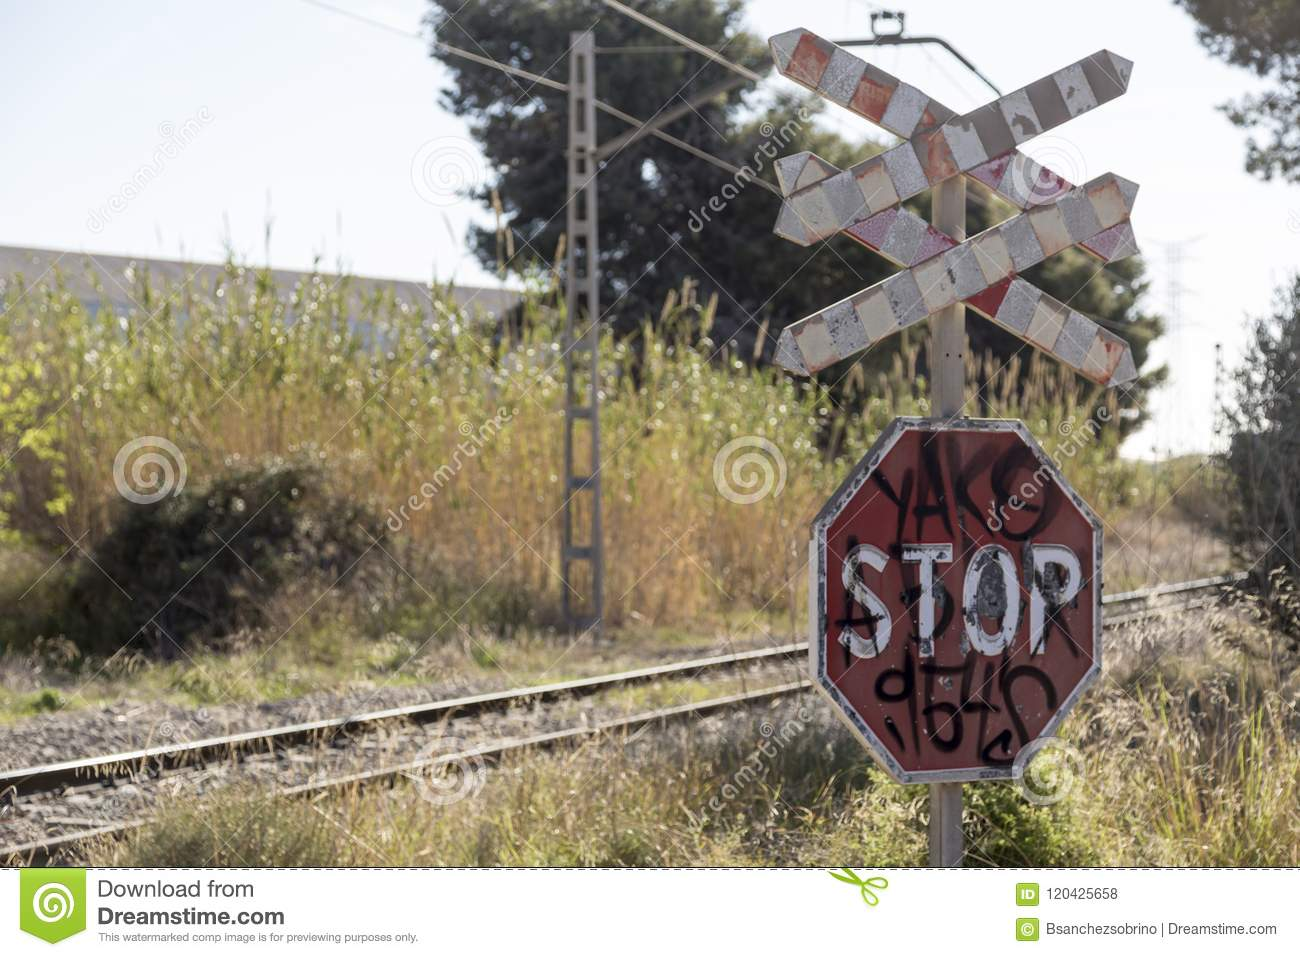stop: (781, 400, 1118, 783)
